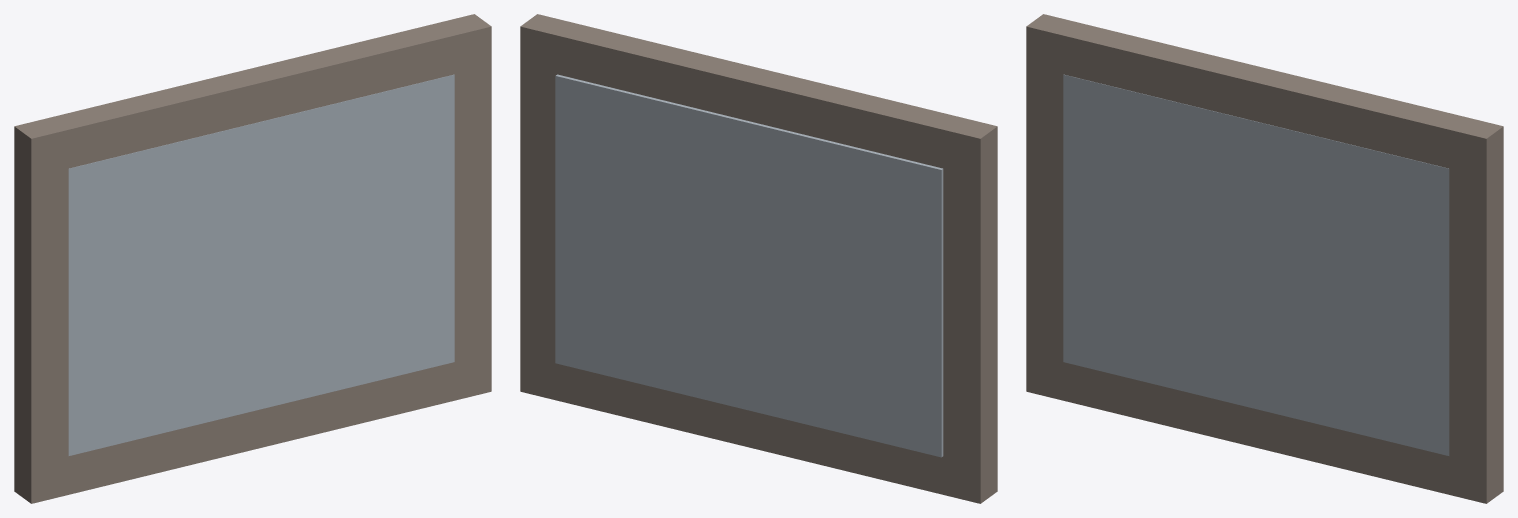
The model's file is bed_aces_quadro.glb.
3 renders of one model, left to right at view 1: azimuth 30°, elevation 25°; view 2: azimuth 150°, elevation 25°; view 3: azimuth 330°, elevation 25°, orthographic.
Visible parts, largest first — view 1: BED_Aces_Quadro_v01; view 2: BED_Aces_Quadro_v01; view 3: BED_Aces_Quadro_v01.
Boxes of the visible parts, x1,y1,x2,y2 form: BED_Aces_Quadro_v01: [14, 14, 491, 503]; BED_Aces_Quadro_v01: [520, 14, 997, 503]; BED_Aces_Quadro_v01: [1026, 14, 1503, 503].
Bounding box in the file's own units: 0.62 × 0.47 × 0.045.
